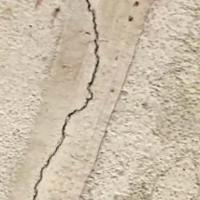crack: (20, 0, 112, 199)
